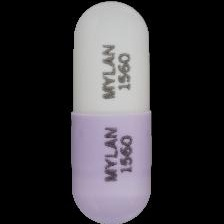67544-517: (0, 0, 224, 224)
